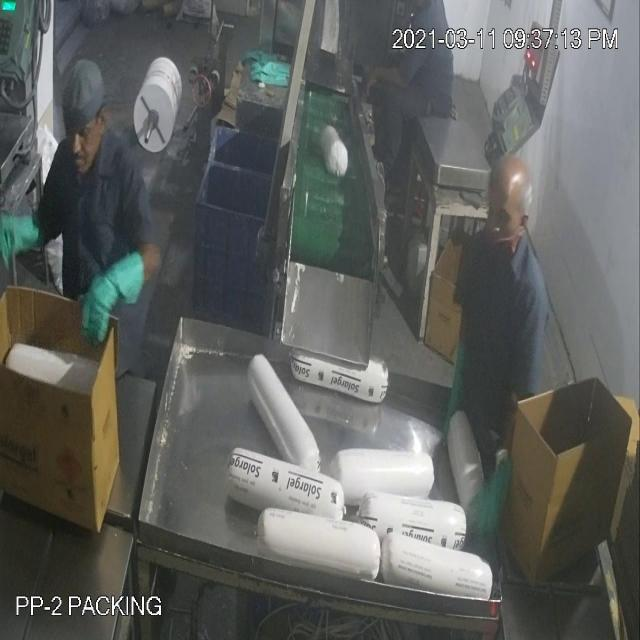No_Gloves: (353, 47, 421, 109)
